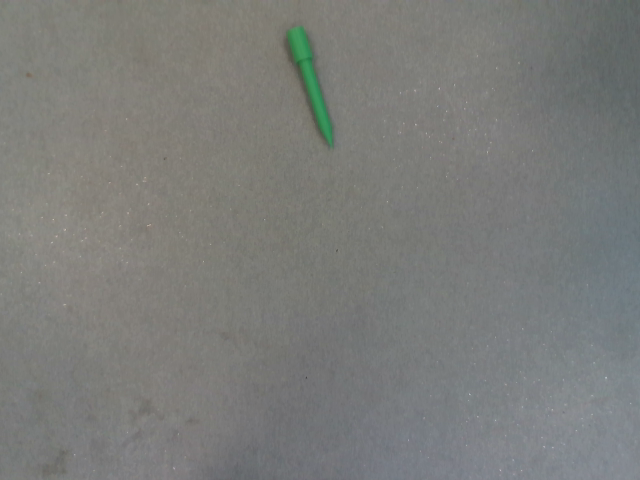Probe: (282, 18, 340, 156)
